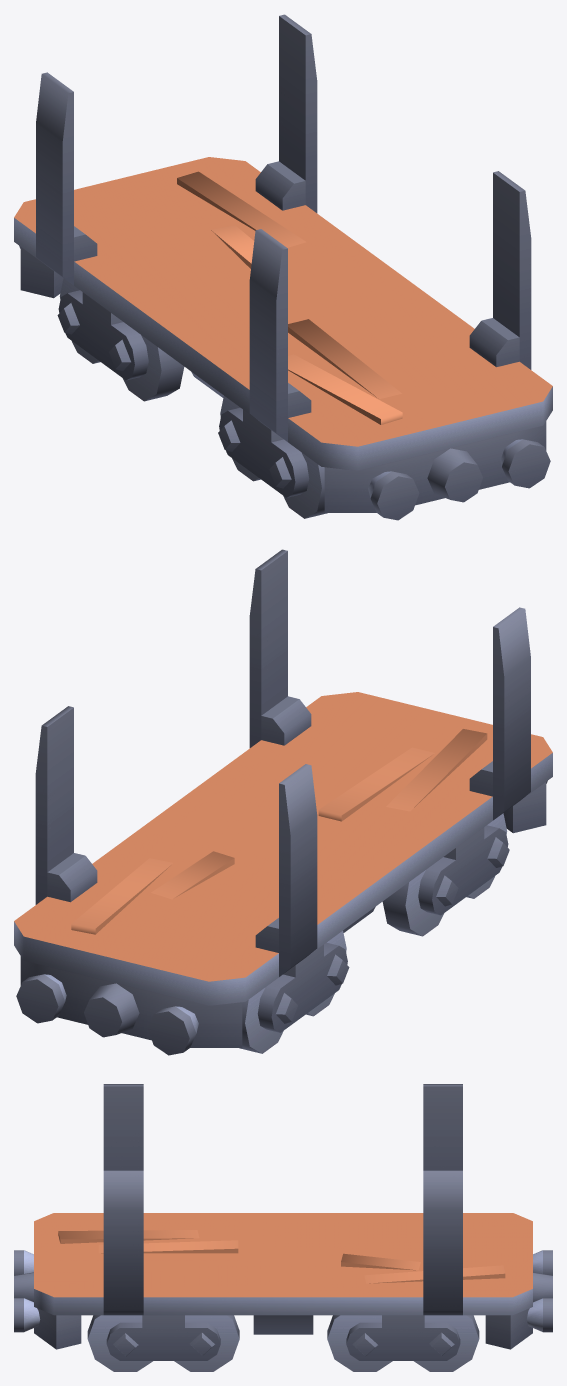
Rendered from train-carriage-flatbed-wood.glb.
3 renders of one model, top to bottom at view 1: azimuth 30°, elevation 25°; view 2: azimuth 150°, elevation 25°; view 3: azimuth 270°, elevation 25°, orthographic. The views are drawn at different scales.
Visible parts, largest first — view 1: train-carriage-flatbed-wood; view 2: train-carriage-flatbed-wood; view 3: train-carriage-flatbed-wood.
Boxes of the visible parts, x1=… form: train-carriage-flatbed-wood: x1=14, y1=14, x2=552, y2=520; train-carriage-flatbed-wood: x1=14, y1=549, x2=552, y2=1055; train-carriage-flatbed-wood: x1=14, y1=1084, x2=552, y2=1371.
Bounding box in the file's own units: 1.1 × 1.16 × 2.7.
Materials: 1 (1 with a texture image).
